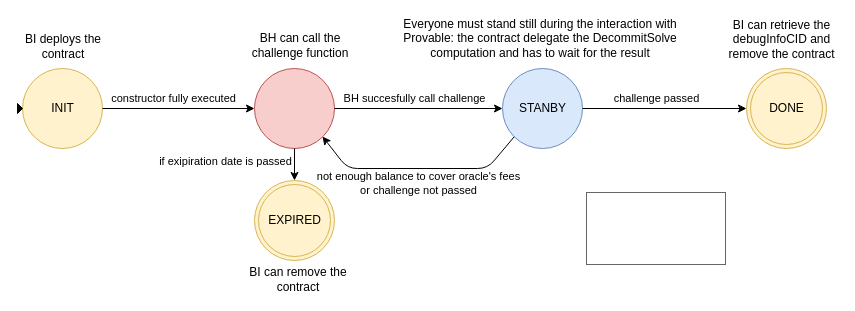
Some shapes in this 855 by 311 pixel diagram are drawn without their labels. The shapes that lost their labels are listed below. From the top down, each one's centre as x and y in pixels, then its label:
At point 294,108: "CHALLENGE".
At point 656,228: "Legenda yellow BI's stages red BH's stages blue Provable's stages".
